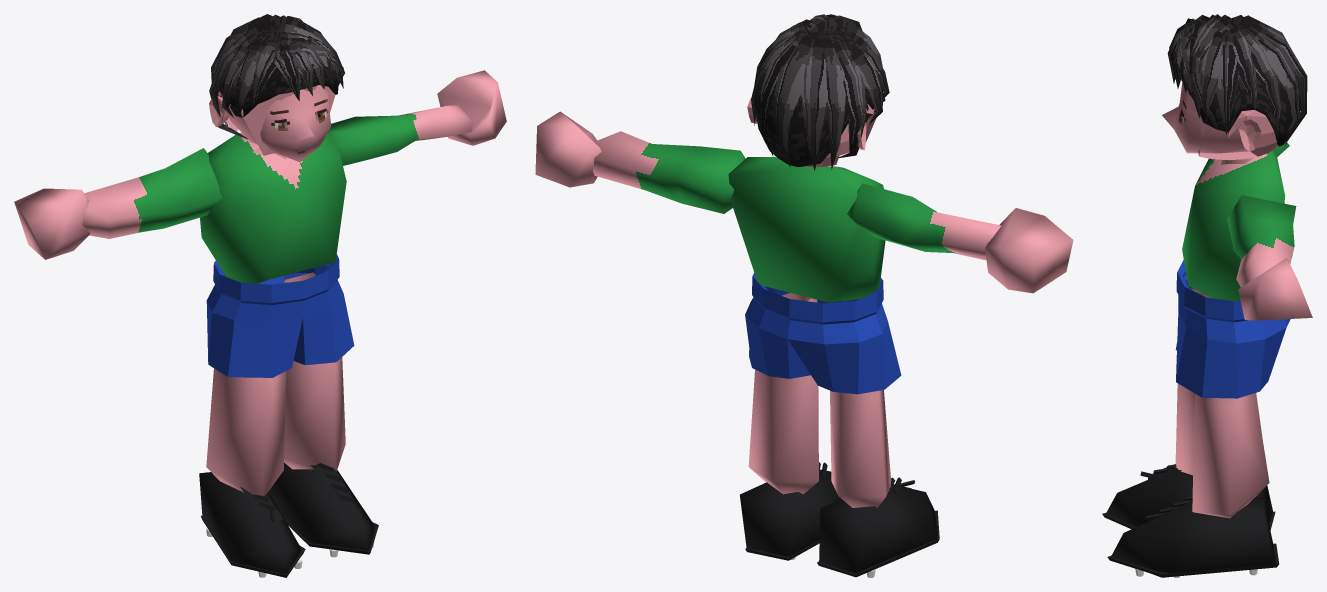
The model's file is 01-liso-repartido_preto.glb.
3 views of the same model, side by side, from view 1: azimuth 30°, elevation 25°; view 2: azimuth 150°, elevation 25°; view 3: azimuth 270°, elevation 25° (orthographic). The views are drawn at different scales.
Parts seen in each view (by area): view 1: Camisa_Tronco, Bermuda, Cabelo, Perna.R, Braco.R, Perna.L, Chuteira.R, Chuteira.L, Braco.L, Mao.R, Cabeca, Mao.L (+3 smaller); view 2: Camisa_Tronco, Cabelo, Bermuda, Perna.L, Braco.L, Chuteira.R, Perna.R, Braco.R, Mao.R, Chuteira.L, Mao.L, Chuteira_Sola.R; view 3: Cabelo, Bermuda, Chuteira.L, Camisa_Tronco, Perna.L, Braco.L, Mao.L, Chuteira.R, Cabeca, Perna.R, Cranio, Chuteira_Sola.L (+3 smaller).
Part boxes in pixels (<box>): Camisa_Tronco: <box>200,132,346,283</box>; Bermuda: <box>206,254,354,377</box>; Cabelo: <box>209,14,344,139</box>; Perna.R: <box>206,368,286,500</box>; Braco.R: <box>82,148,222,238</box>; Perna.L: <box>284,272,345,471</box>; Chuteira.R: <box>199,472,303,573</box>; Chuteira.L: <box>269,462,374,550</box>; Braco.L: <box>328,105,473,165</box>; Mao.R: <box>14,188,90,259</box>; Cabeca: <box>221,85,331,162</box>; Mao.L: <box>437,70,506,145</box>; Camisa_Tronco: <box>728,157,885,302</box>; Cabelo: <box>751,14,889,170</box>; Bermuda: <box>745,273,901,394</box>; Perna.L: <box>748,293,818,494</box>; Braco.L: <box>593,131,745,213</box>; Chuteira.R: <box>819,484,937,572</box>; Perna.R: <box>830,390,891,507</box>; Braco.R: <box>847,183,1000,260</box>; Mao.R: <box>985,208,1073,293</box>; Chuteira.L: <box>740,469,841,556</box>; Mao.L: <box>535,111,601,187</box>; Chuteira_Sola.R: <box>817,510,939,577</box>; Cabelo: <box>1167,14,1307,146</box>; Bermuda: <box>1175,260,1290,398</box>; Chuteira.L: <box>1111,497,1276,577</box>; Camisa_Tronco: <box>1182,149,1285,301</box>; Perna.L: <box>1192,393,1269,518</box>; Braco.L: <box>1227,195,1296,287</box>; Mao.L: <box>1238,258,1312,320</box>; Chuteira.R: <box>1106,467,1272,526</box>; Cabeca: <box>1162,82,1248,153</box>; Perna.R: <box>1175,288,1262,475</box>; Cranio: <box>1198,110,1277,160</box>; Chuteira_Sola.L: <box>1107,543,1279,577</box>.
Size of the model in its own units: 0.4523 by 0.4524 by 0.1617.
3 materials, 3 textured.
